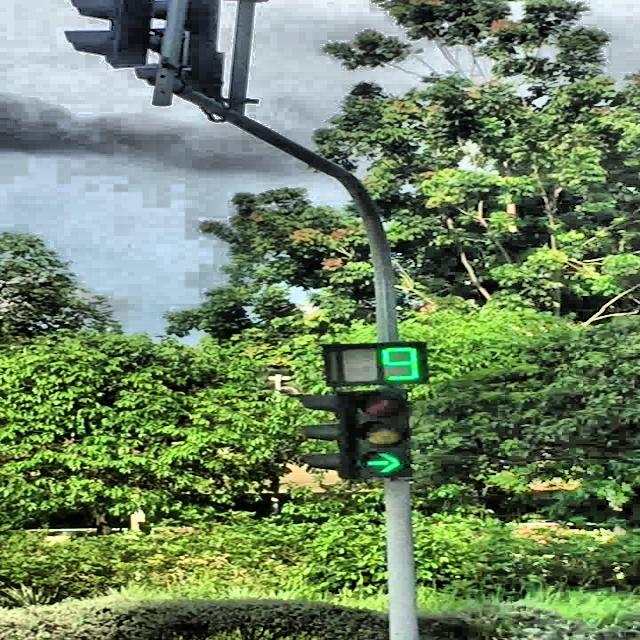green: (357, 388, 411, 476)
